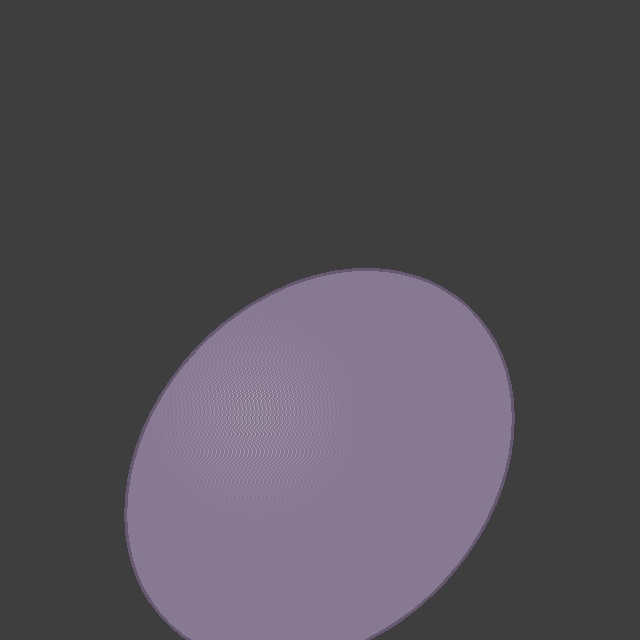lens: (126, 270, 512, 640)
